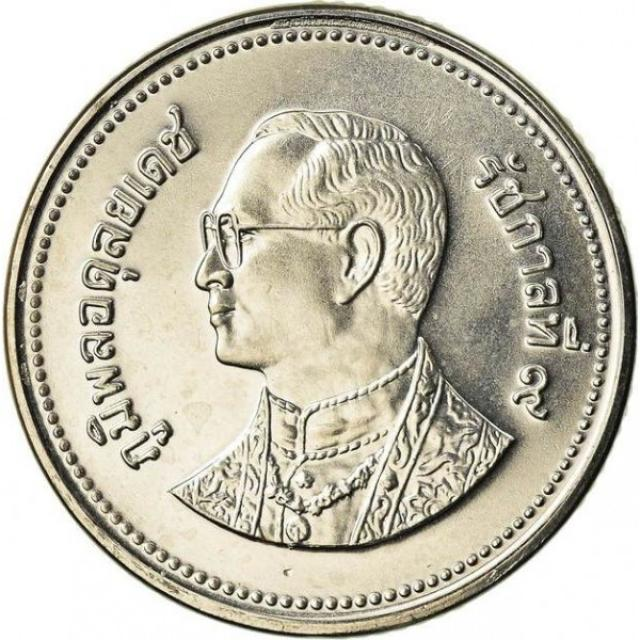2 Bath: (1, 1, 640, 640)
